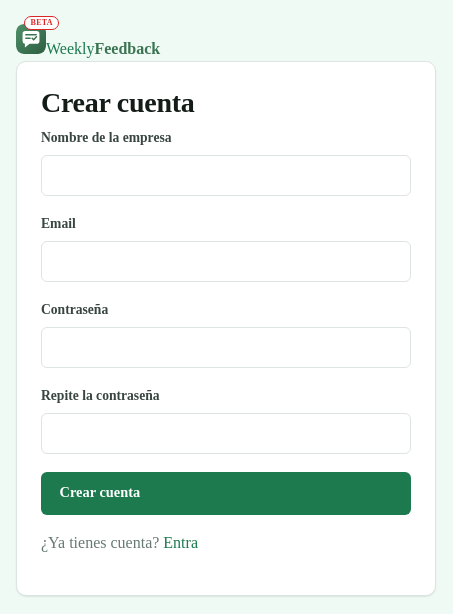
Test: RegisterPage — alta sin plan (el plan se elige después, en /app/billing) › tras registrar, muestra la pantalla de "revisa tu email"
The image size is (453, 614).
Step 1. Type "Acme" into the field labelled "Nombre de la empresa" → (226, 176), box [41,155,411,196]
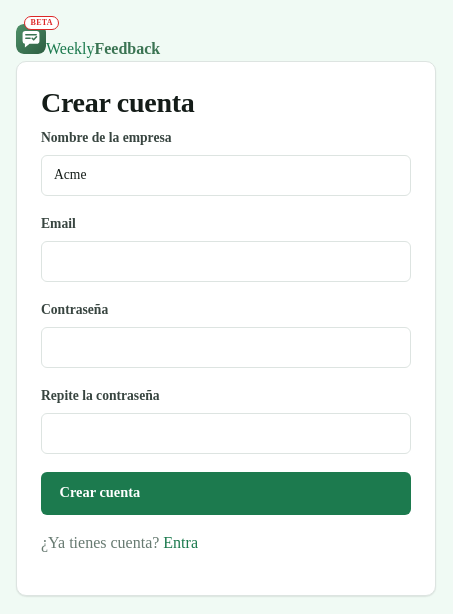
Step 2. Type "a@b.com" into the field labelled "Email" → (226, 262), box [41,241,411,282]
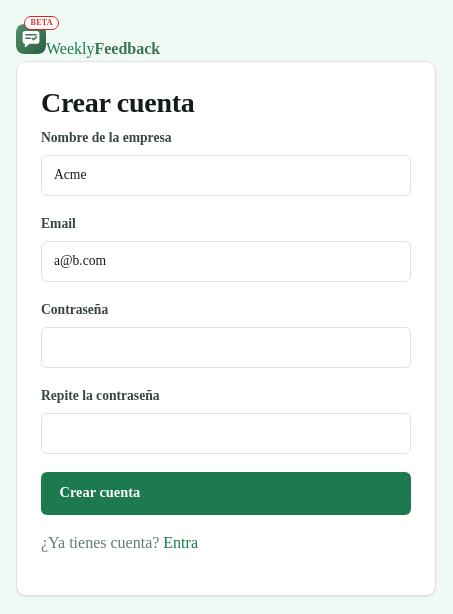
Step 3. Type "password123" into the password field labelled "Contraseña" → (226, 348), box [41,327,411,368]
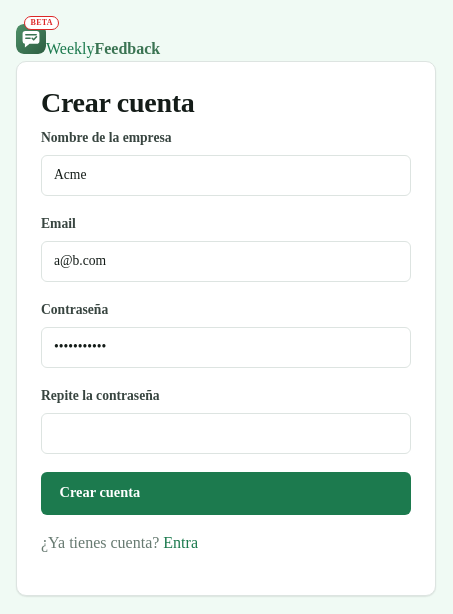
Step 4. Type "password123" into the password field labelled "Repite la contraseña" → (226, 433), box [41,413,411,454]
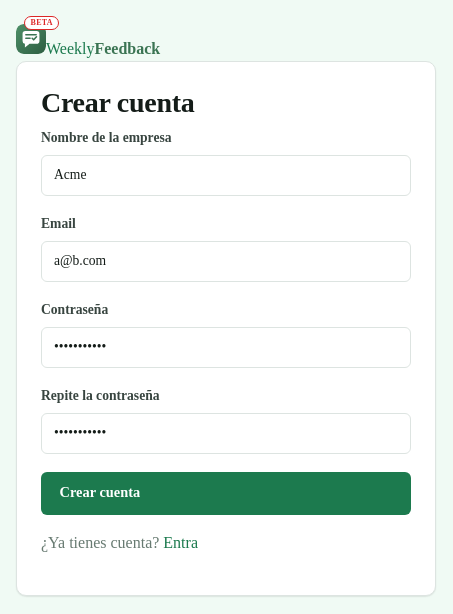
Step 5. Click the button "Crear cuenta" → (100, 492), box [41,472,411,515]
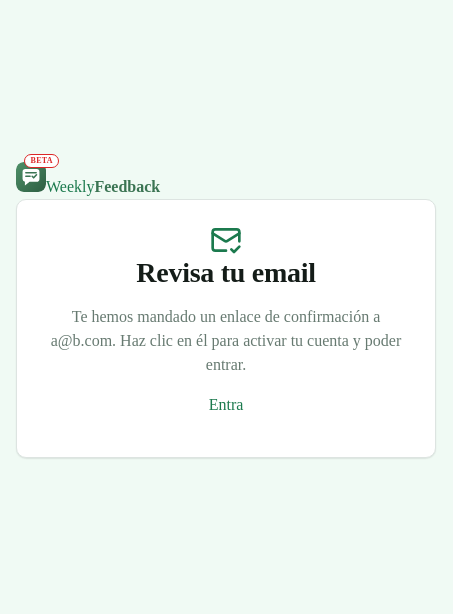
expect the heading "Revisa tu email" is shown: met, box [136,257,316,288]
